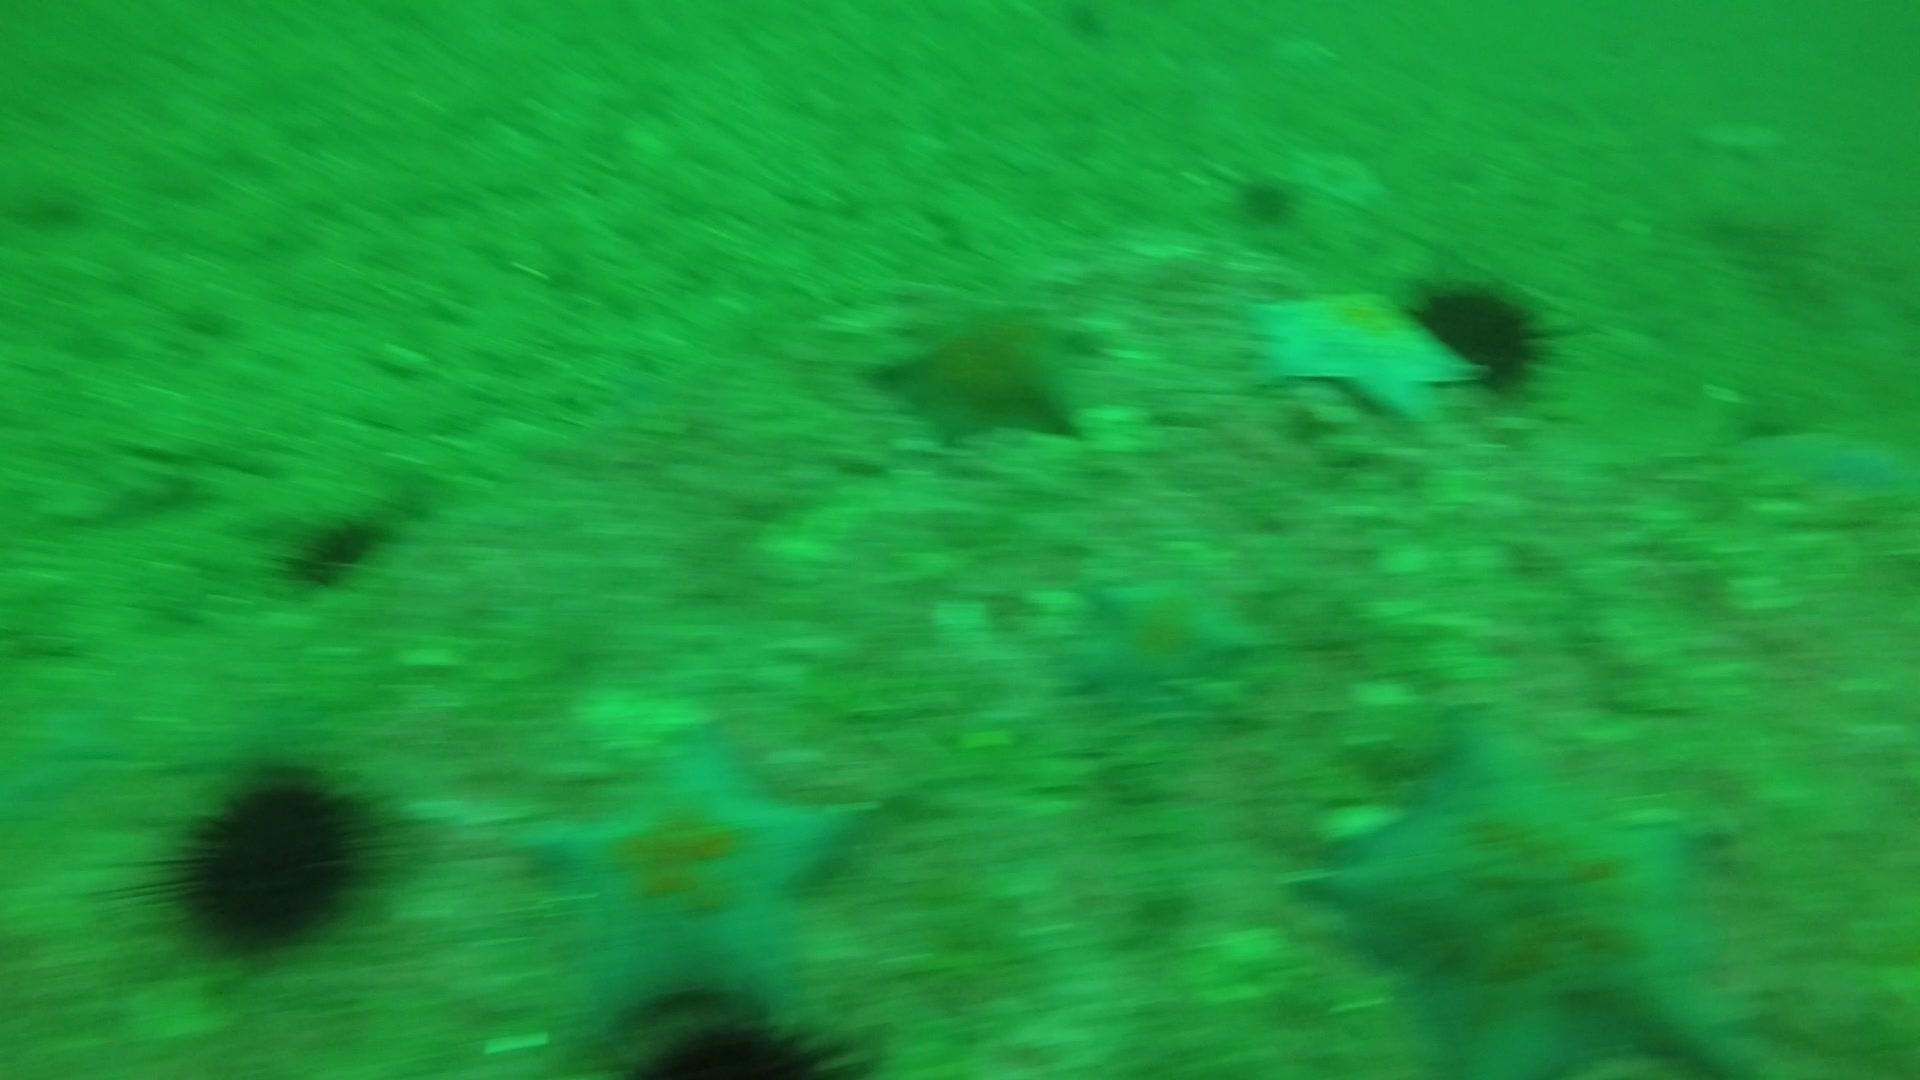echinus: (149, 756, 386, 961), (1404, 269, 1559, 400), (640, 1011, 843, 1073), (276, 502, 392, 593)
starfish: (1288, 708, 1775, 1077), (506, 717, 885, 1043), (864, 281, 1112, 452), (1237, 282, 1491, 429), (1058, 560, 1269, 702), (1734, 417, 1915, 520)
